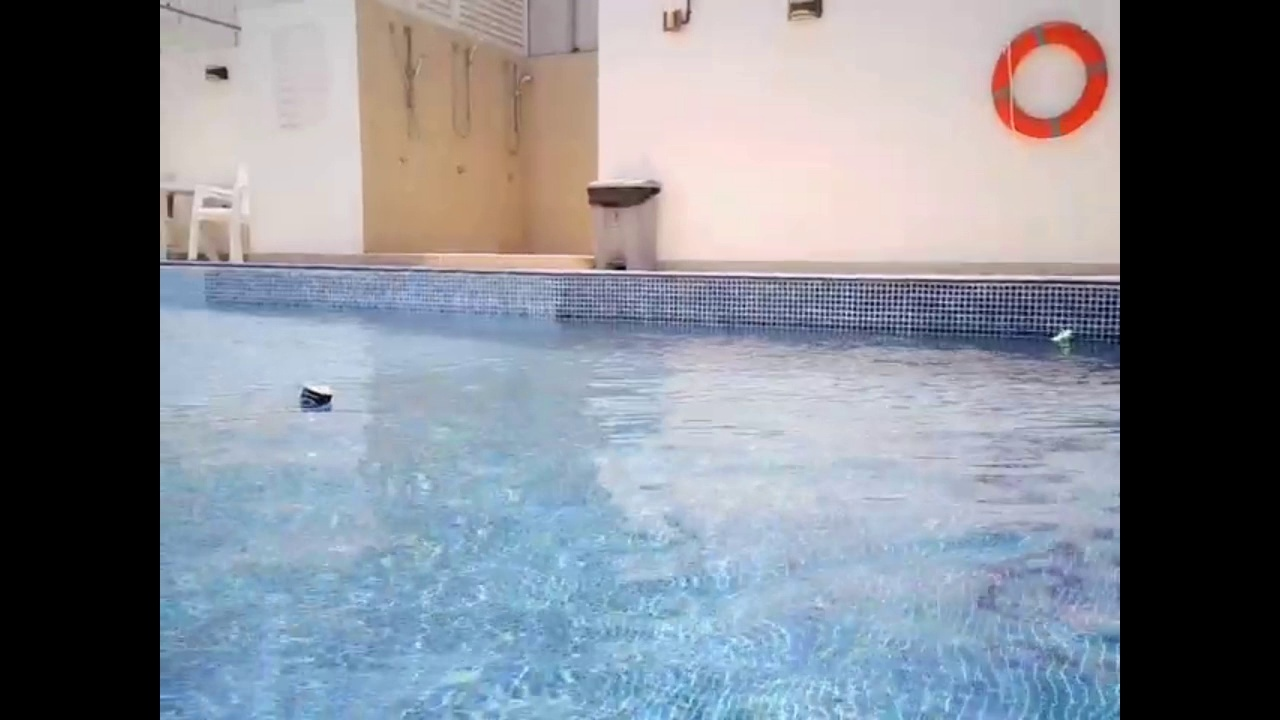debris: (289, 379, 341, 415), (1042, 323, 1078, 352)
